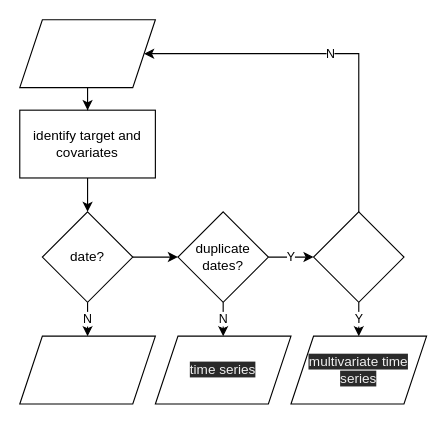
This 446x424 diagram has some shape labels left out. The shapes that lost their labels are listed below. From the top down, each one's centre as x and y in pixels, then its label:
point (87, 53): ingest dataframe
point (358, 256): is multivariate?
point (87, 369): iid
